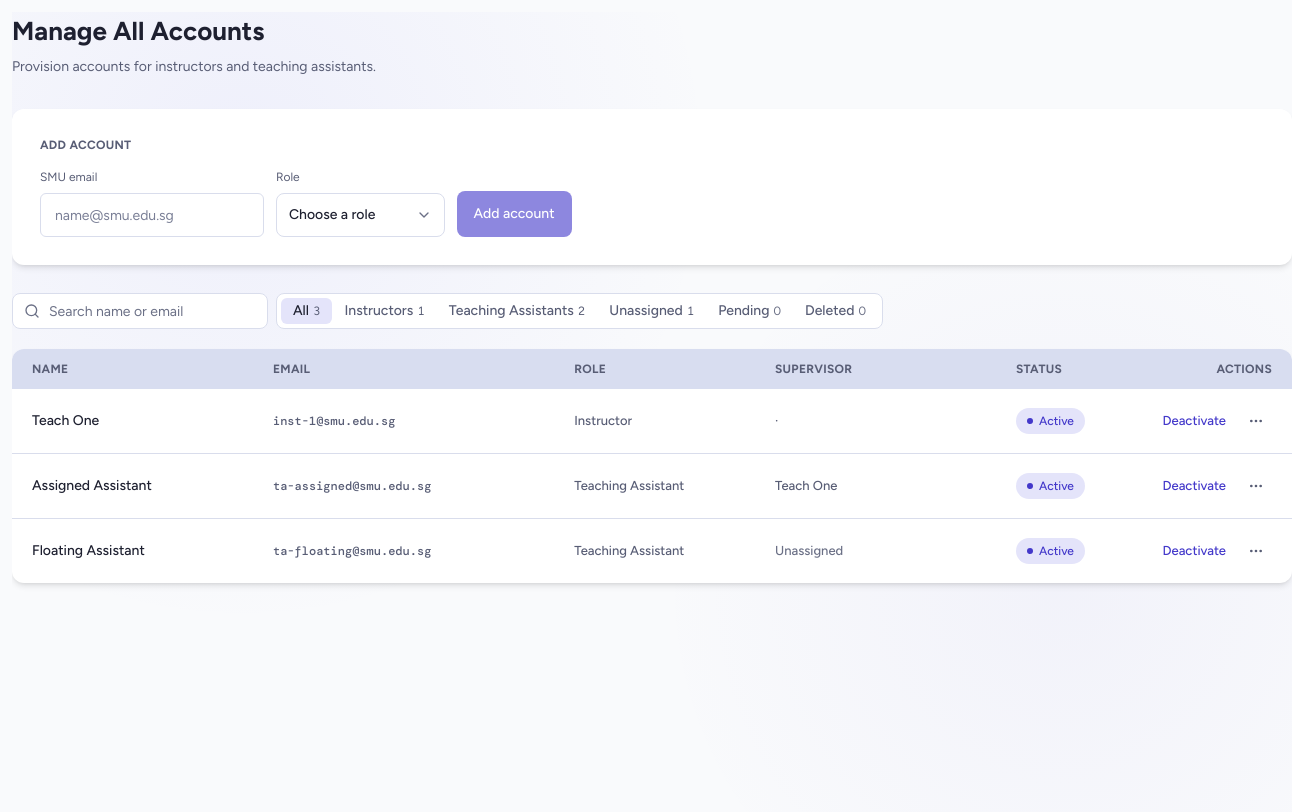
UsersPage - add account form › narrows the roster to the existing account on a duplicate email
The image size is (1292, 812).
Click the radio button labelled "Instructors 1": [385, 311] box x1=332 y1=298 x2=437 y2=324
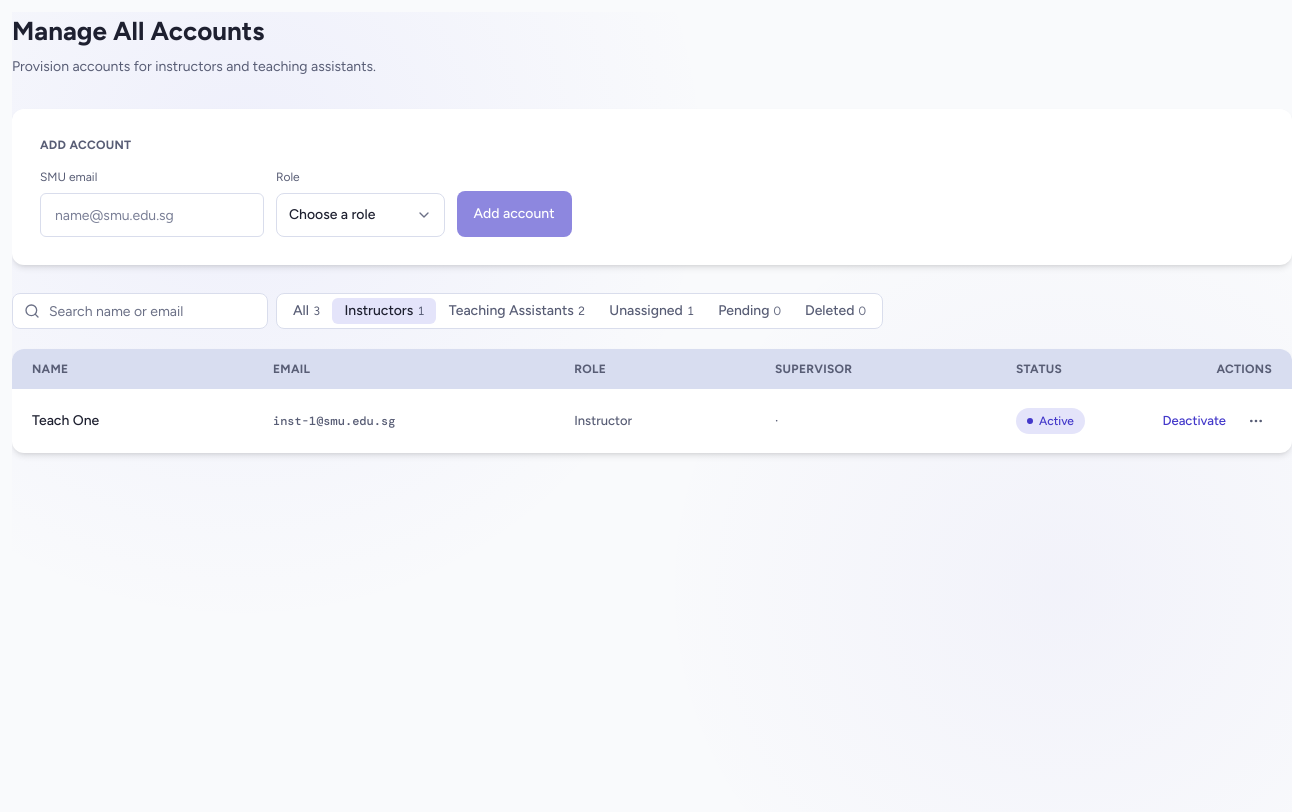
In the field labelled "SMU email": [152, 215] box x1=40 y1=193 x2=264 y2=237, type "ta-floating@smu.edu.sg"
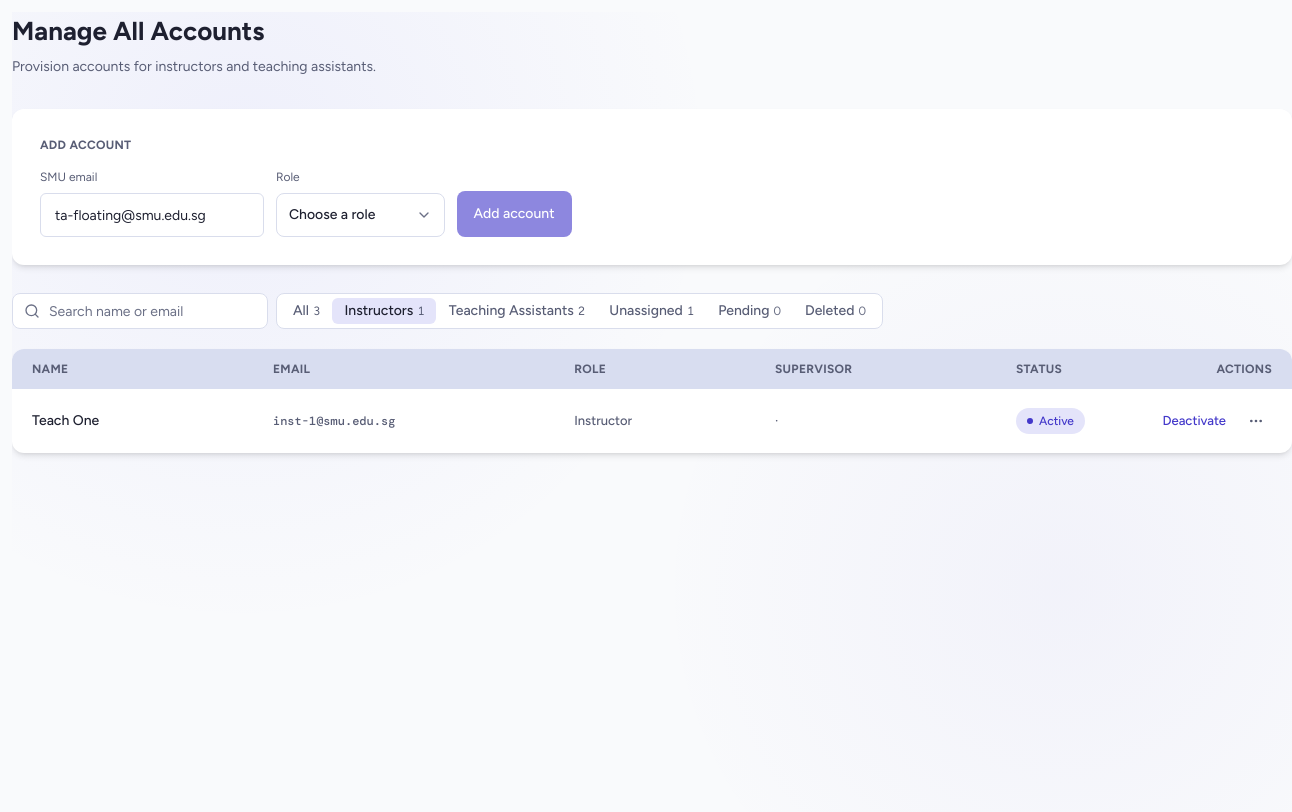
Click the dropdown labelled "role": [360, 215] box x1=276 y1=193 x2=444 y2=237
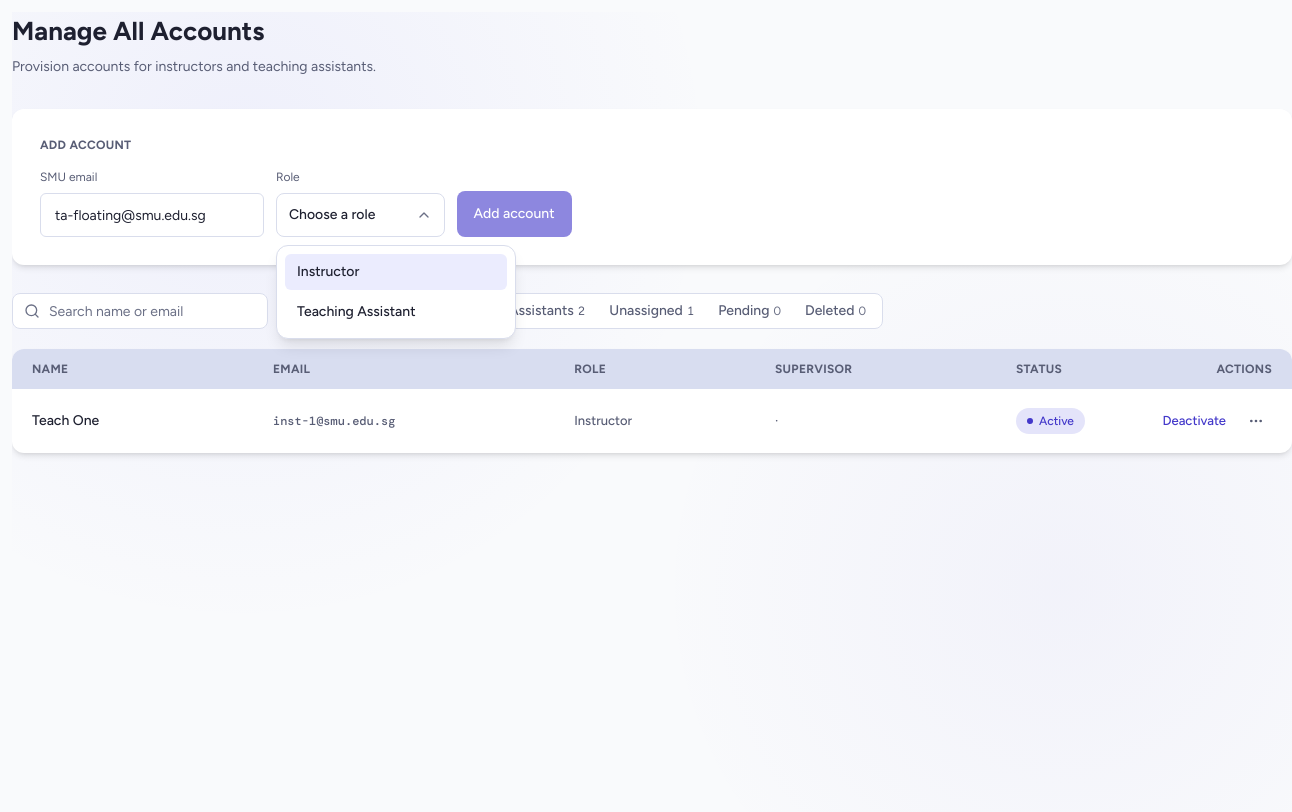
Click the option "Teaching Assistant": [356, 312] box x1=297 y1=303 x2=416 y2=320
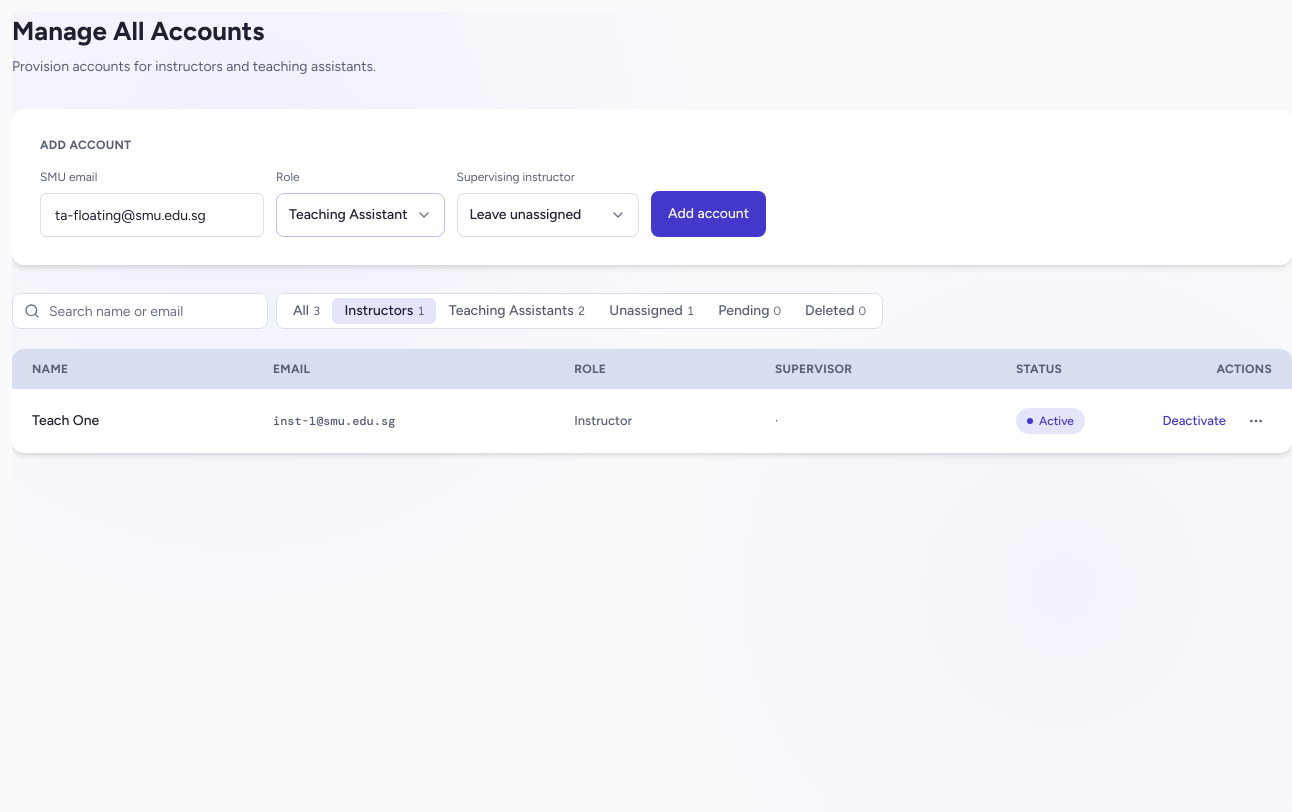
Click the button "Add account": [709, 214] box x1=651 y1=191 x2=766 y2=237
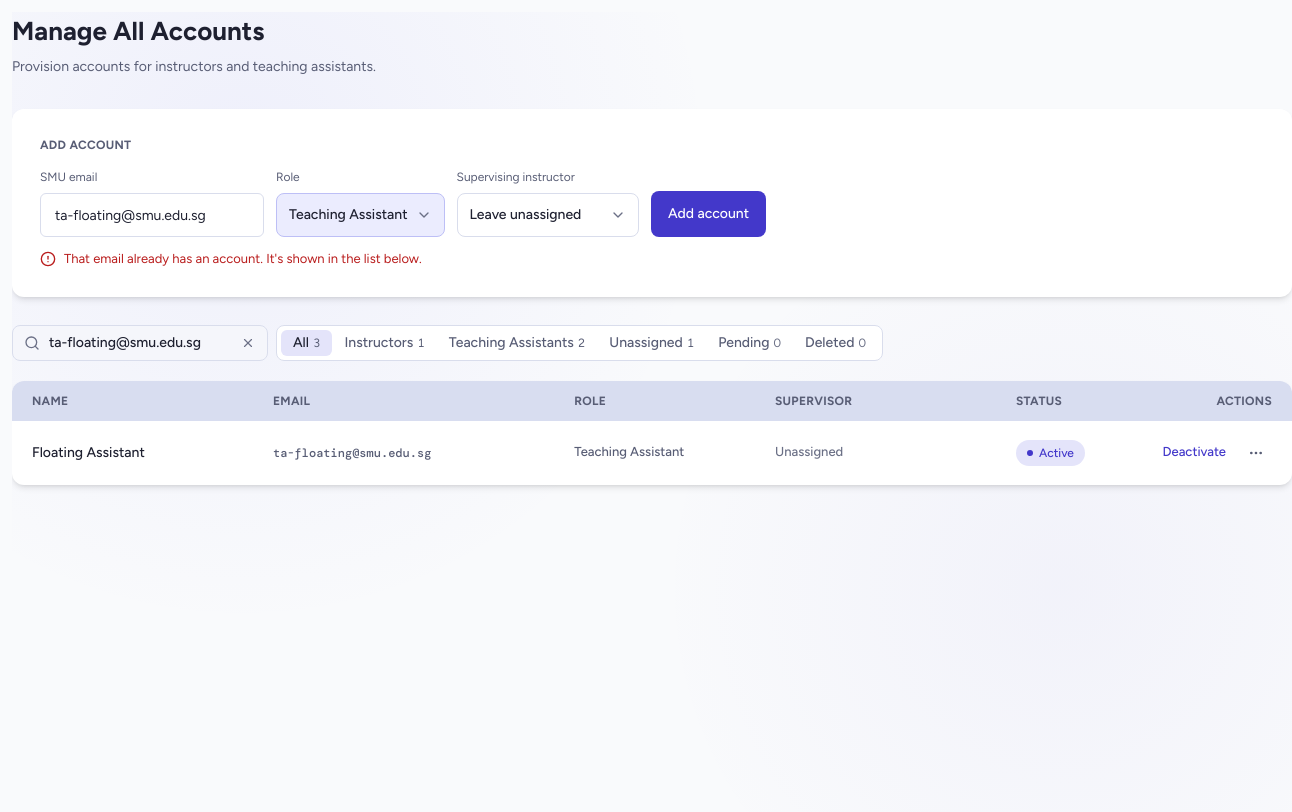
Expected: the text "Assigned Assistant" is not shown
Now the text "already has an account" is shown, box x1=64 y1=251 x2=422 y2=266
Now the search field named "Search accounts" holds "ta-floating@smu.edu.sg", box x1=12 y1=324 x2=268 y2=360
